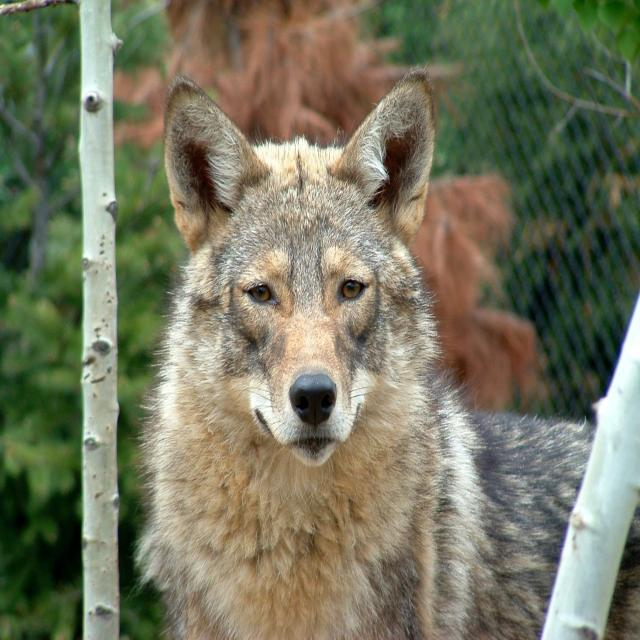Coyote: (138, 65, 454, 640)
